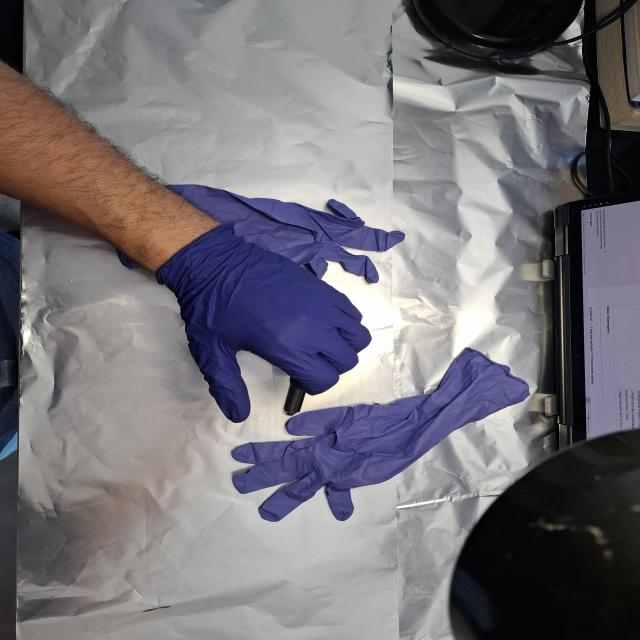glove_on: (157, 220, 374, 424)
